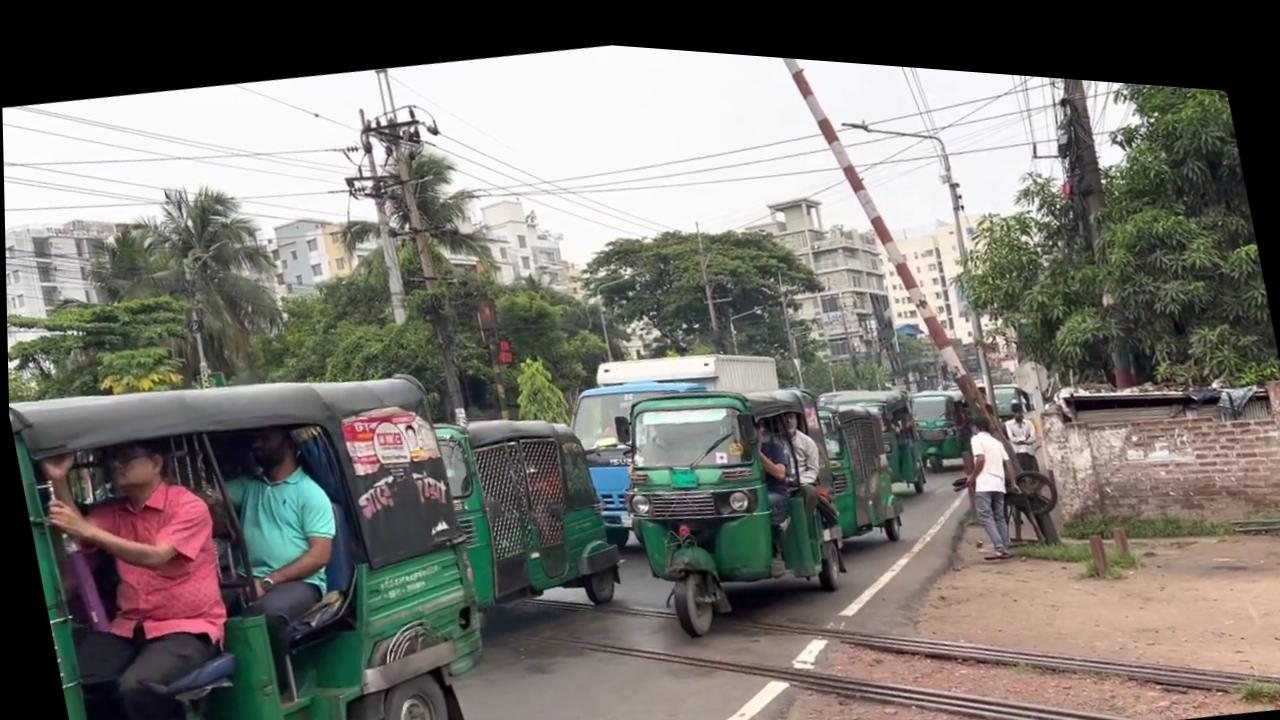Fence: (24, 419, 265, 720), (199, 409, 352, 630), (949, 393, 1027, 548)
Garbage: (766, 45, 1022, 497), (1003, 58, 1195, 382)
Motorcycle: (489, 444, 1280, 720)
Railroad-crossing: (64, 159, 298, 405)
Rickshaw: (555, 319, 806, 555)
